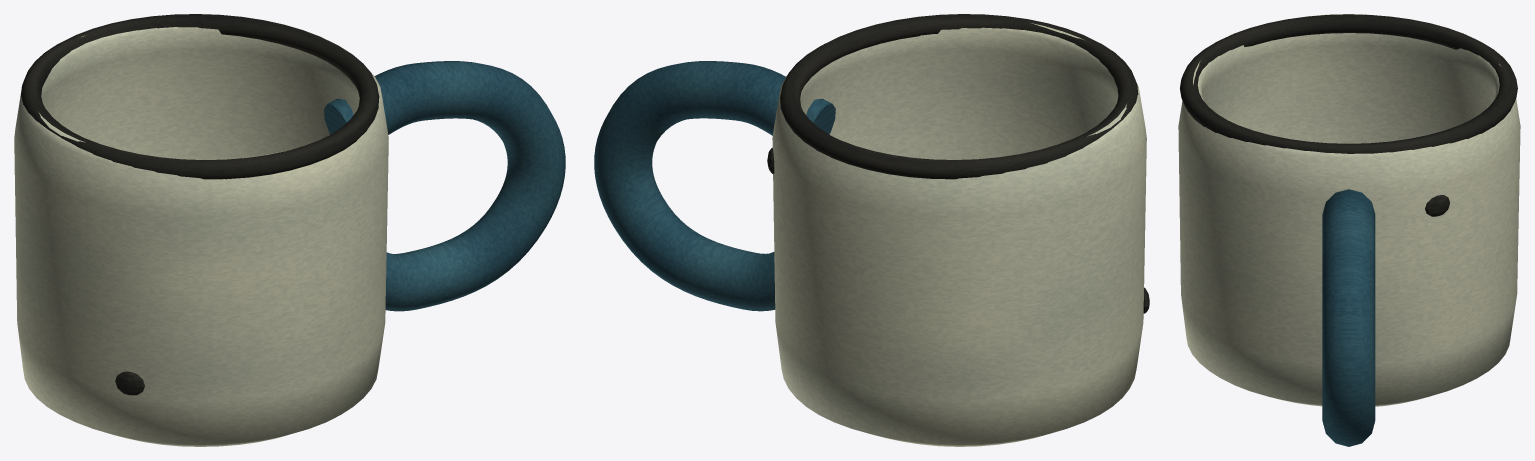
Rendered from MugEnamel.fbx.
3 views of the same model, side by side, from view 1: azimuth 30°, elevation 25°; view 2: azimuth 150°, elevation 25°; view 3: azimuth 270°, elevation 25° (orthographic). The views are drawn at different scales.
Parts seen in each view (by area): view 1: Dented enamel camp mug, Angular enamel handle, Dark rolled enamel rim, Chipped enamel spot.001; view 2: Dented enamel camp mug, Angular enamel handle, Dark rolled enamel rim; view 3: Dented enamel camp mug, Angular enamel handle, Dark rolled enamel rim, Chipped enamel spot.
Part boxes in pixels (x1,y1,x2,y2): Dented enamel camp mug: (14,27,388,446); Angular enamel handle: (324,61,565,311); Dark rolled enamel rim: (21,14,379,179); Chipped enamel spot.001: (115,371,144,395); Dented enamel camp mug: (772,23,1146,446); Angular enamel handle: (594,61,835,311); Dark rolled enamel rim: (780,14,1138,179); Dented enamel camp mug: (1178,14,1520,406); Angular enamel handle: (1322,189,1375,446); Dark rolled enamel rim: (1180,14,1517,153); Chipped enamel spot: (1425,195,1449,216).
Bounding box in the file's own units: 18.73 × 10.1 × 11.6.
